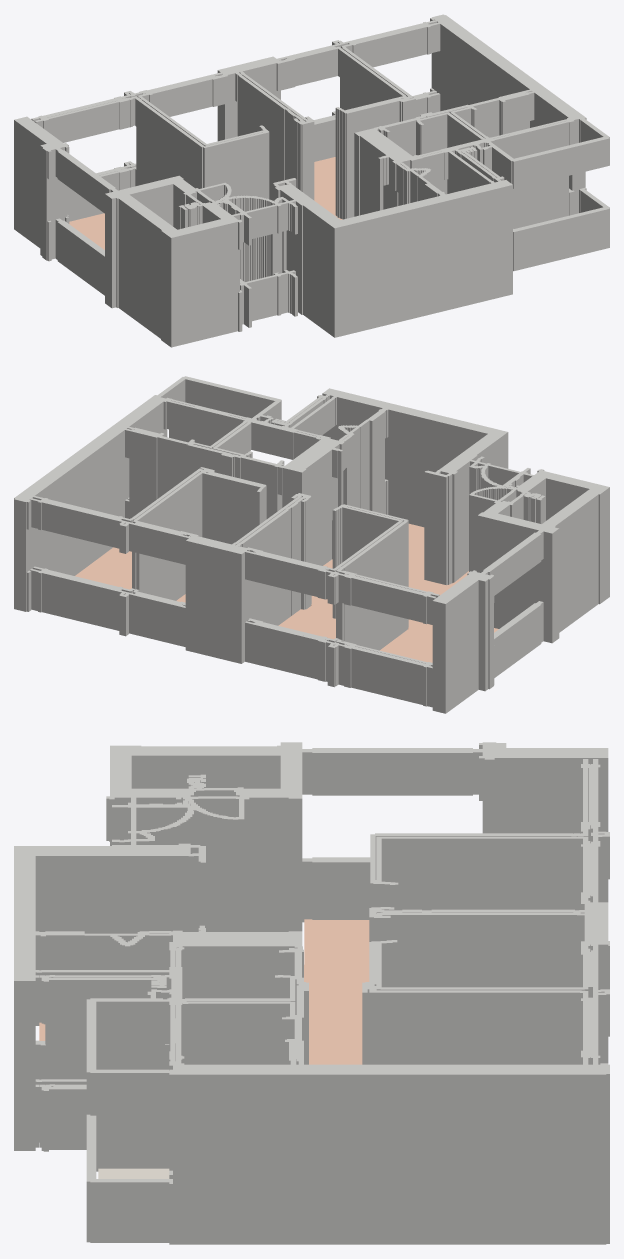
3 views of the same model, one above another, from view 1: azimuth 30°, elevation 25°; view 2: azimuth 150°, elevation 25°; view 3: azimuth 270°, elevation 25° (orthographic). The views are drawn at different scales.
Parts seen in each view (by area): view 1: walls, room:kitchen:1; view 2: walls, room:kitchen:1; view 3: walls, room:kitchen:1, room:other:7.
Part boxes in pixels (x1,y1,x2,y2): walls: (14,14,609,347); room:kitchen:1: (69,157,342,249); walls: (14,376,609,713); room:kitchen:1: (75,523,498,662); walls: (14,742,609,1244); room:kitchen:1: (39,919,369,1064); room:other:7: (98,1168,169,1179).
Size of the model in its own units: 11.74 by 2.8 by 8.9.
